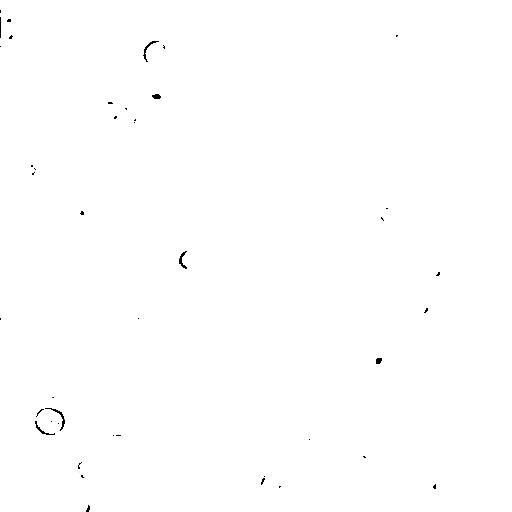micro-algae: (1, 307, 58, 392), (375, 295, 439, 361), (10, 59, 71, 121), (397, 283, 456, 341), (143, 255, 196, 305), (353, 439, 399, 481), (421, 0, 459, 36), (237, 392, 273, 429), (421, 343, 454, 382), (191, 118, 225, 154), (31, 405, 66, 437), (211, 31, 244, 64), (163, 139, 197, 168), (219, 0, 257, 25), (381, 17, 410, 48), (397, 383, 428, 410), (413, 259, 447, 283), (233, 464, 260, 493), (422, 473, 449, 502), (65, 195, 93, 222), (405, 293, 432, 320), (264, 67, 290, 94), (283, 146, 309, 173), (288, 424, 316, 449), (120, 186, 141, 217), (113, 93, 139, 118), (366, 349, 392, 374), (264, 471, 291, 495), (105, 417, 133, 440), (390, 326, 413, 353), (144, 37, 166, 65), (76, 456, 100, 481), (307, 108, 332, 131), (337, 455, 365, 475), (178, 247, 200, 271), (87, 0, 115, 18), (143, 77, 167, 98), (153, 483, 175, 505), (379, 205, 402, 226), (1, 23, 21, 47), (239, 115, 264, 134), (143, 352, 163, 375), (97, 101, 118, 122), (134, 112, 155, 133), (54, 387, 73, 410), (143, 443, 163, 461), (128, 301, 144, 322), (17, 0, 46, 11), (0, 7, 13, 31), (69, 498, 91, 512), (21, 161, 37, 179), (108, 504, 123, 512)
